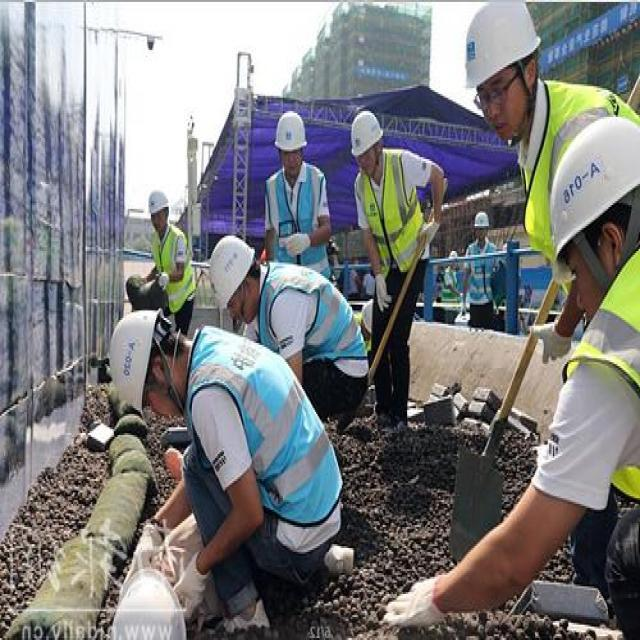reflective_jacket: (566, 256, 639, 509), (358, 151, 426, 277), (263, 164, 329, 262), (259, 262, 336, 343), (151, 225, 194, 312)
safety_helmet: (546, 111, 639, 252), (460, 0, 541, 90), (106, 302, 163, 417), (207, 233, 255, 308), (346, 105, 384, 158), (273, 109, 308, 153), (145, 185, 170, 216), (473, 211, 489, 230)
